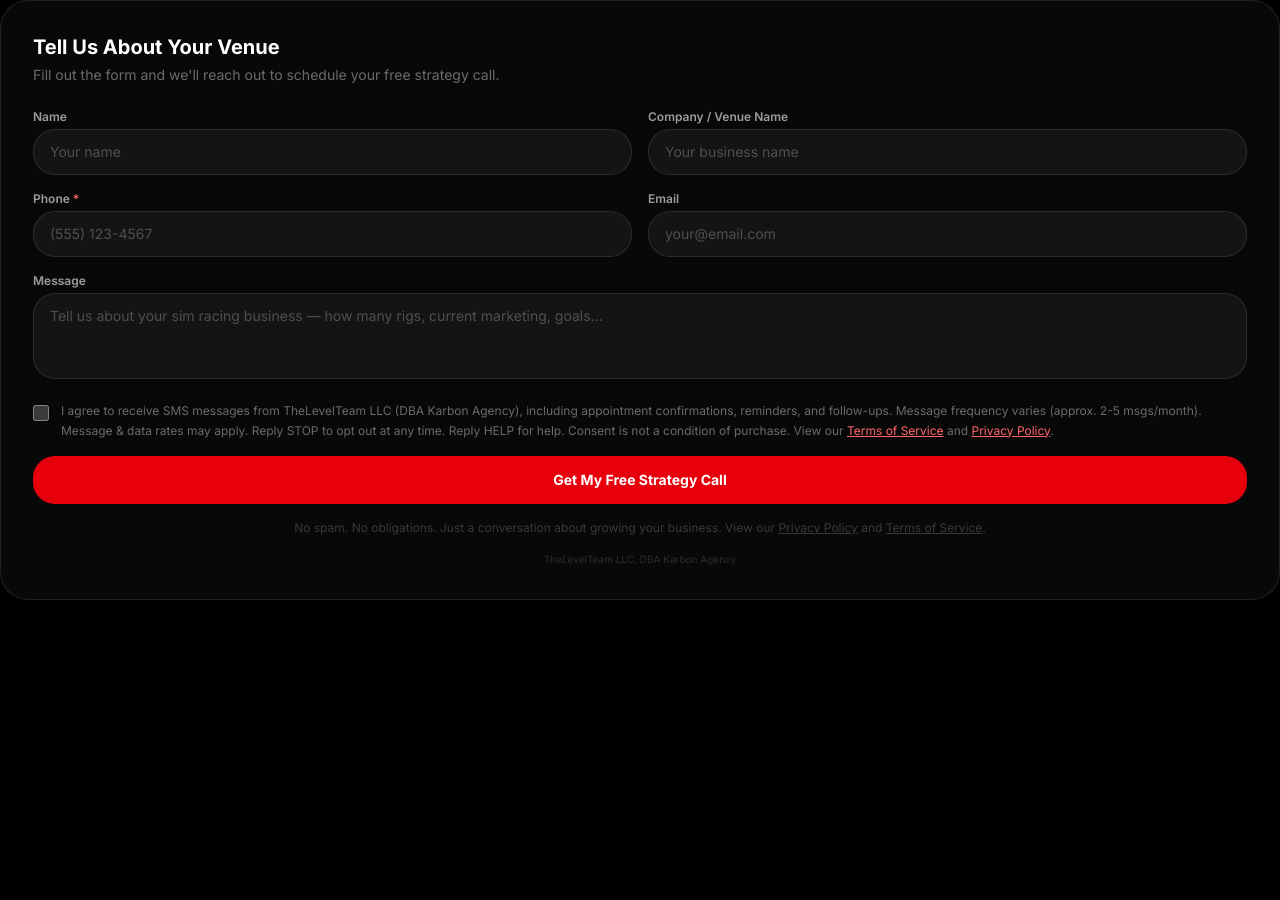
it: ContactForm › successful submission › sends form data and shows success message
The width and height of the screenshot is (1280, 900).
Type "John Doe" into the field with id "name" at (332, 152), box [33,129,632,175]
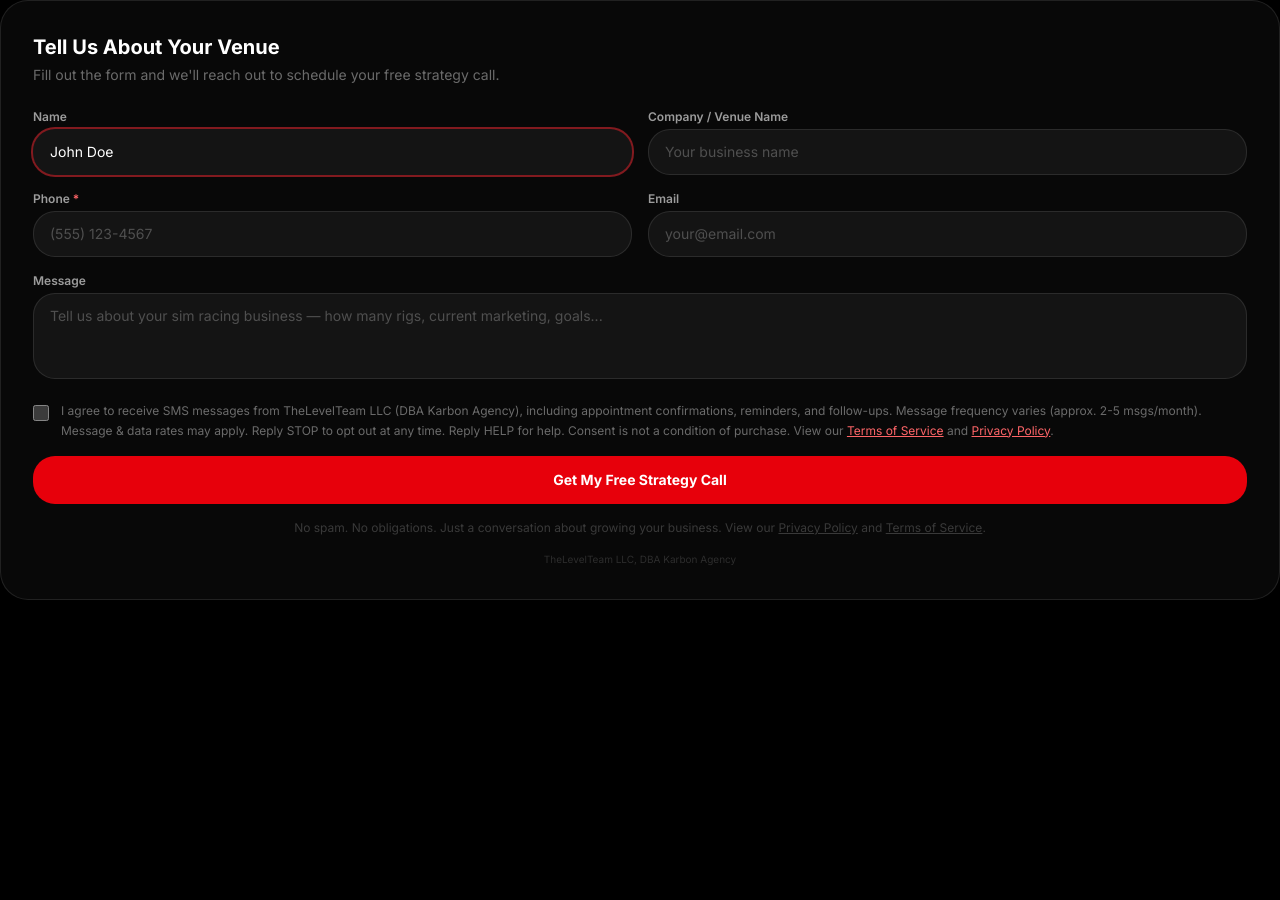
Type "555-1234" into the field labelled "Phone *" at (332, 234), box [33,211,632,257]
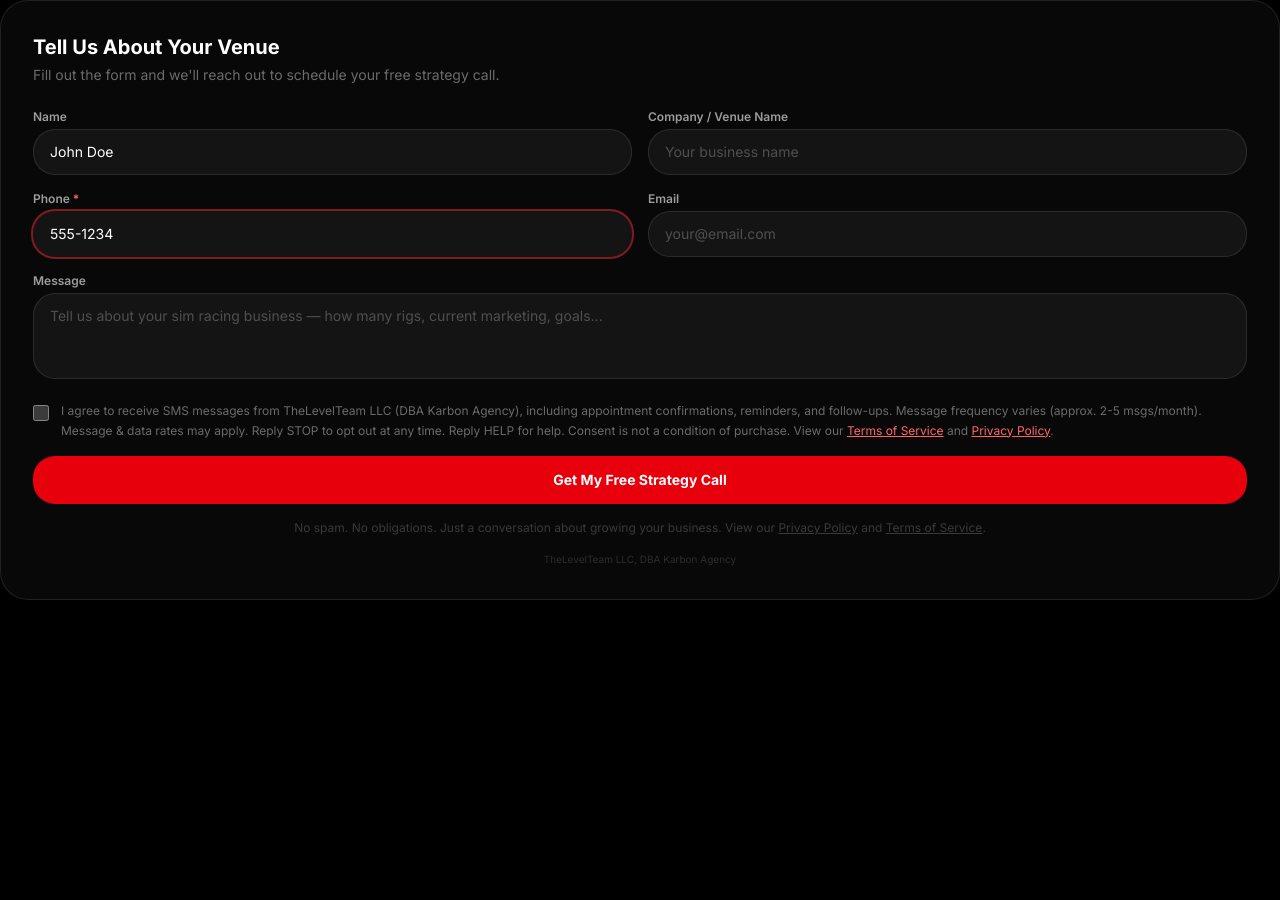
Type "john@test.com" into the field with id "email" at (948, 234), box [648,211,1247,257]
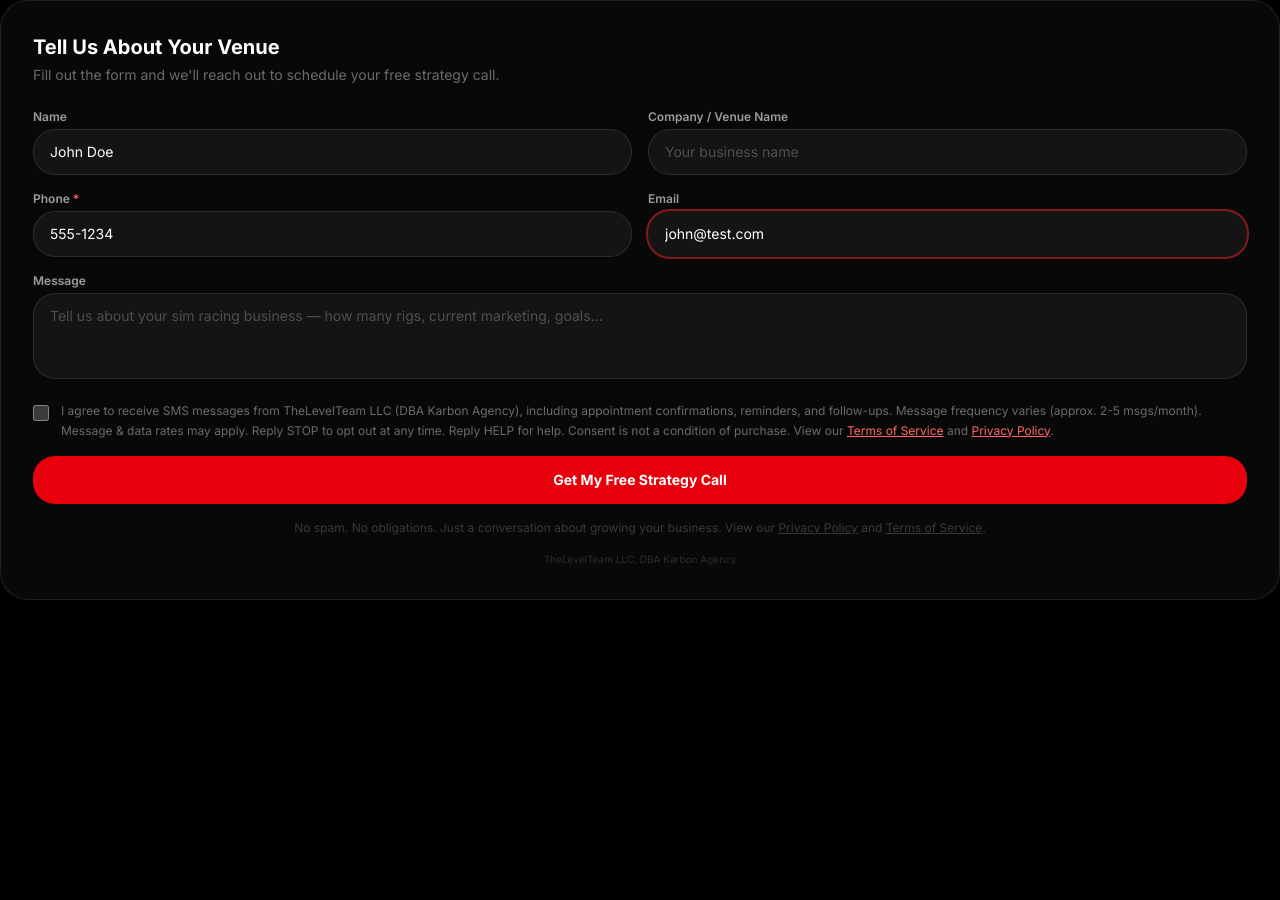
Type "Hello" into the text box with id "message" at (640, 336), box [33,293,1247,379]
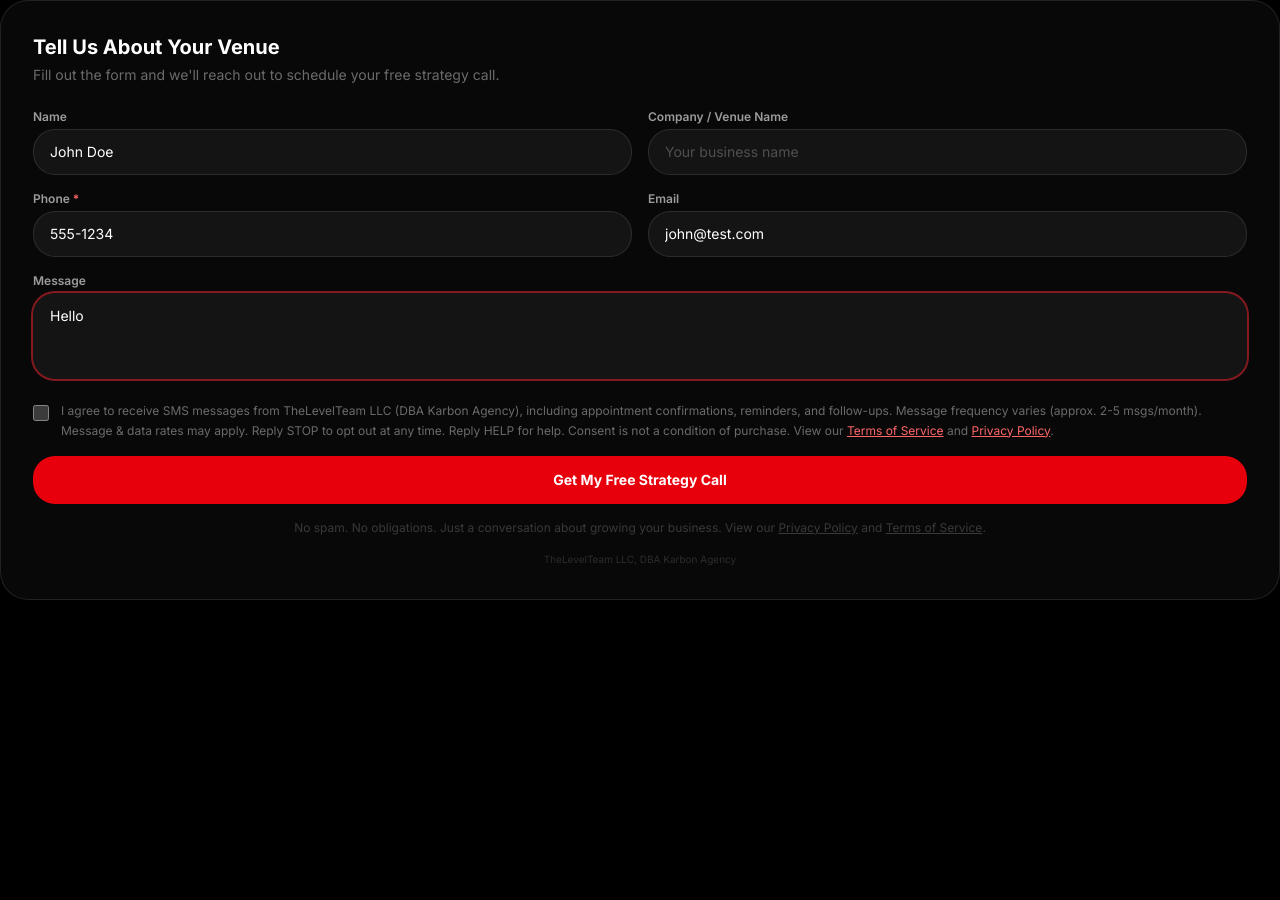
Click the button "Get My Free Strategy Call" at (640, 480), box [33,456,1247,504]
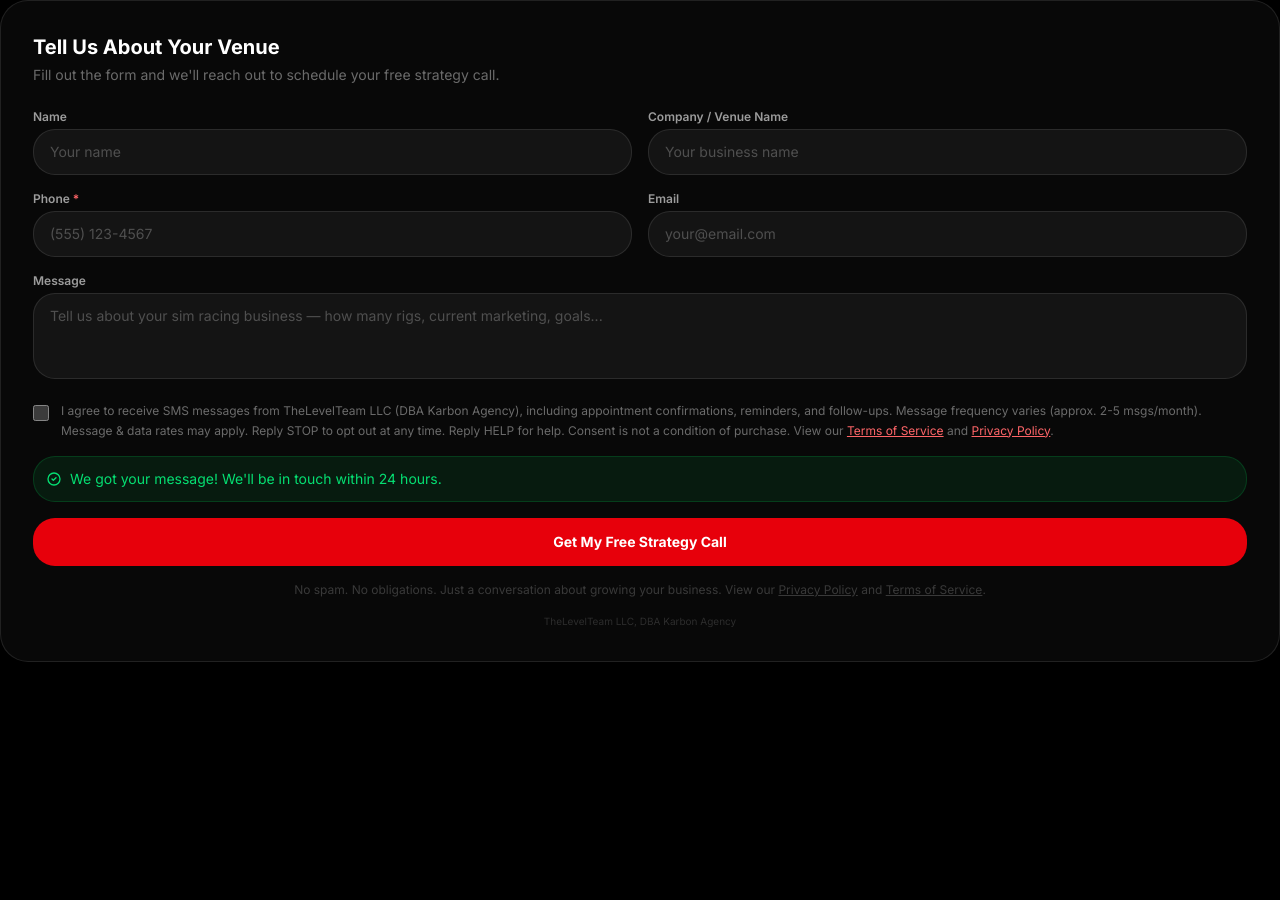
Result: the text "We got your message! We'll be in touch within 24 hours." is shown at [33,456,1247,502]
